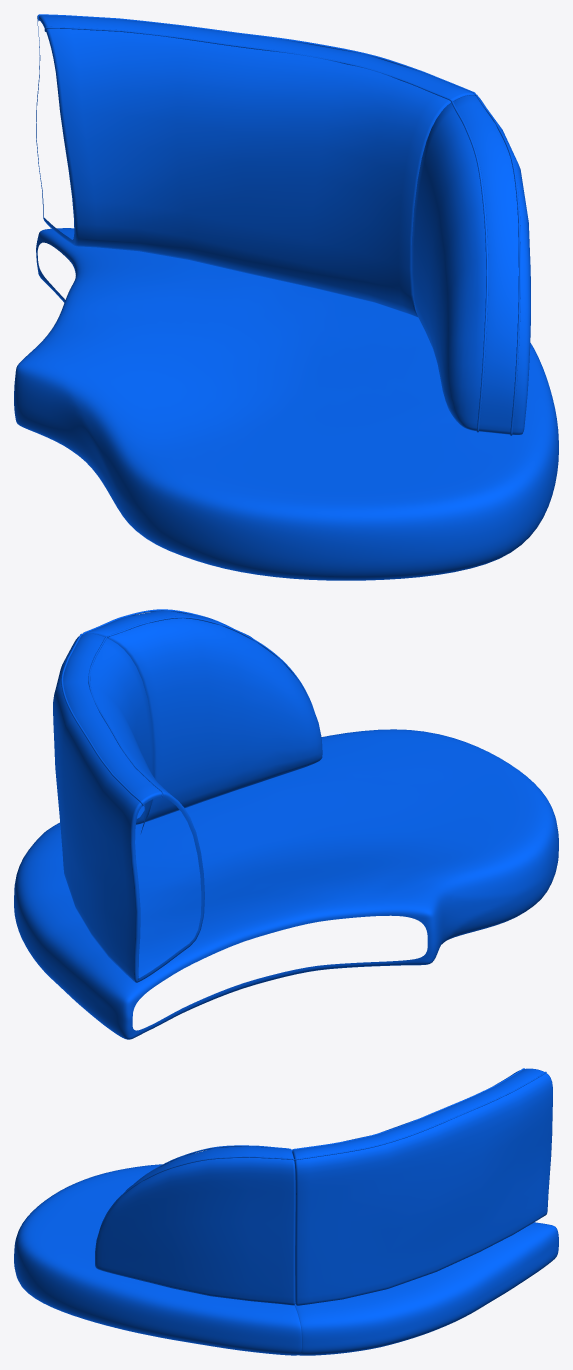
File: levante_longchair.gltf
3 views of the same model, one above another, from view 1: azimuth 30°, elevation 25°; view 2: azimuth 150°, elevation 25°; view 3: azimuth 270°, elevation 25° (orthographic). The views are drawn at different scales.
Visible parts, largest first — view 1: longchair; view 2: longchair; view 3: longchair.
Boxes of the visible parts, <box> form: longchair: <box>14,14,558,580</box>; longchair: <box>14,609,558,1039</box>; longchair: <box>14,1068,558,1355</box>.
Size of the model in its own units: 1.17 by 0.6949 by 1.73.
